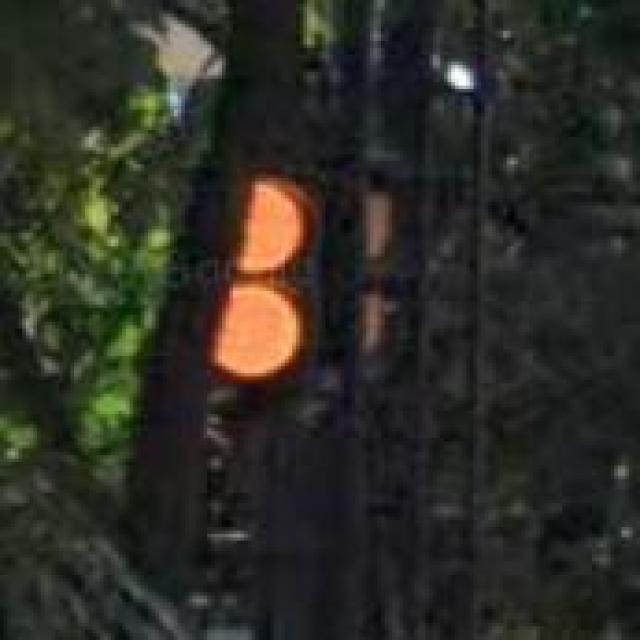yellow_light: (207, 175, 329, 384)
